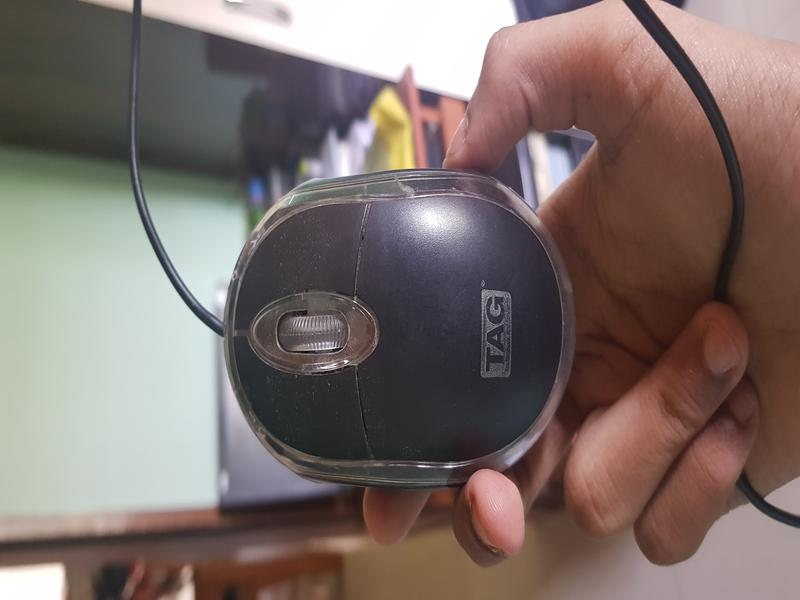mouse: (190, 124, 598, 518)
